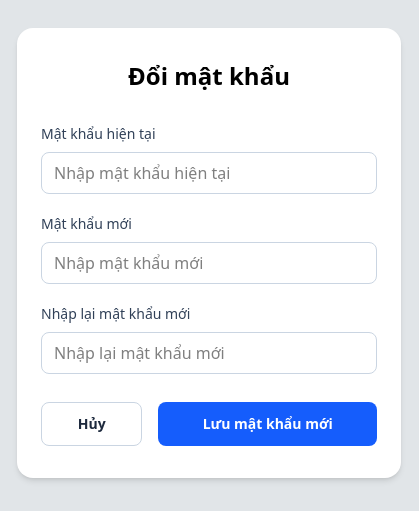
Scenario: ChangePassword Page › Edge cases › submit_shouldSetErrorOnNewPassword_whenNewPasswordEqualsCurrentPassword
Type "SamePass!1" into the password field labelled "Mật khẩu hiện tại" at (209, 173), box [41,152,377,194]
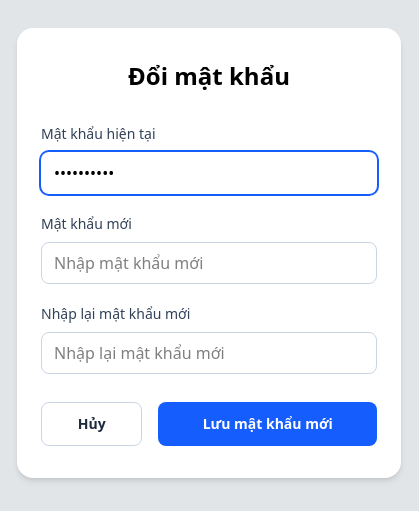
Type "SamePass!1" into the password field labelled "Mật khẩu mới" at (209, 263), box [41,242,377,284]
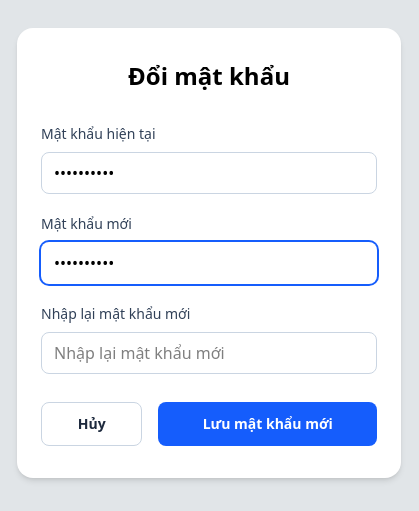
Type "SamePass!1" into the password field labelled "Nhập lại mật khẩu mới" at (209, 353), box [41,332,377,374]
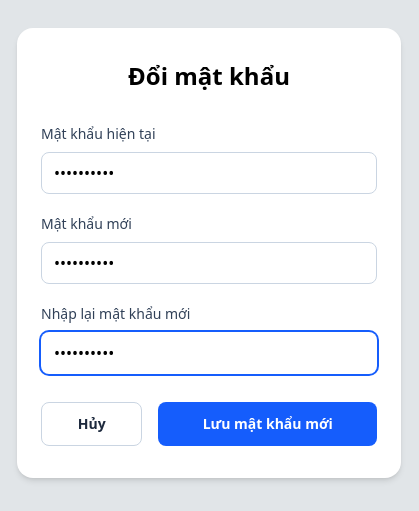
Click the button "Lưu mật khẩu mới" at (268, 424), box [158,402,377,446]
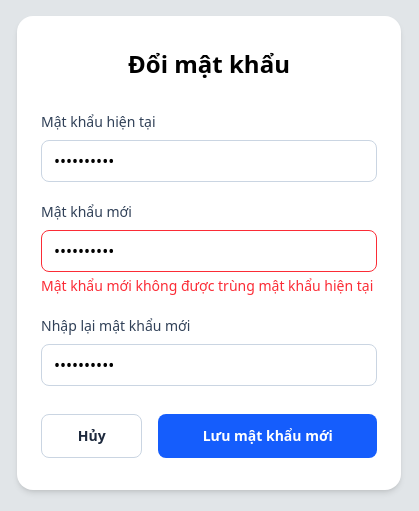
Check: the text "Mật khẩu mới không được trùng mật khẩu hiện tại" is shown, box [41,276,377,296]
